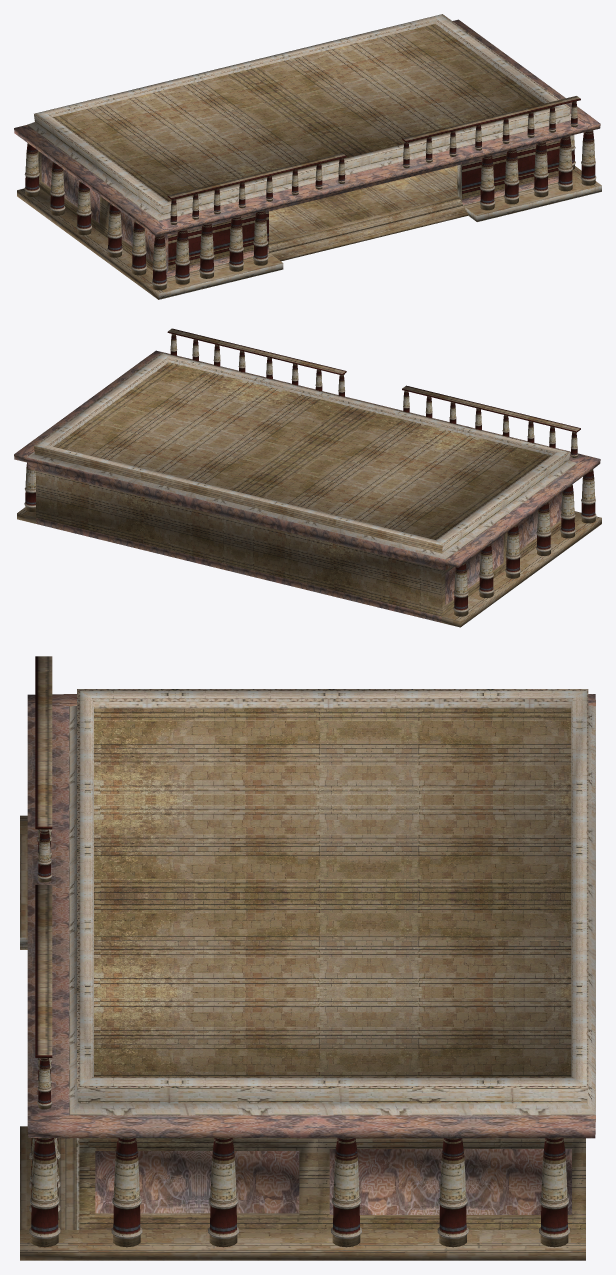
File: building4.dae
The picture shows the model from 3 angles, top to bottom: view 1: azimuth 30°, elevation 25°; view 2: azimuth 150°, elevation 25°; view 3: azimuth 270°, elevation 25°; orthographic projection. The views are drawn at different scales.
Visible parts, largest first — view 1: meshU3D; view 2: meshU3D; view 3: meshU3D.
Boxes of the visible parts, x1,y1,x2,y2 form: meshU3D: (14, 14, 601, 299); meshU3D: (14, 328, 601, 627); meshU3D: (20, 656, 595, 1260).
Size of the model in its own units: 1268 by 257 by 711.
Materials: 3 (3 with a texture image).
